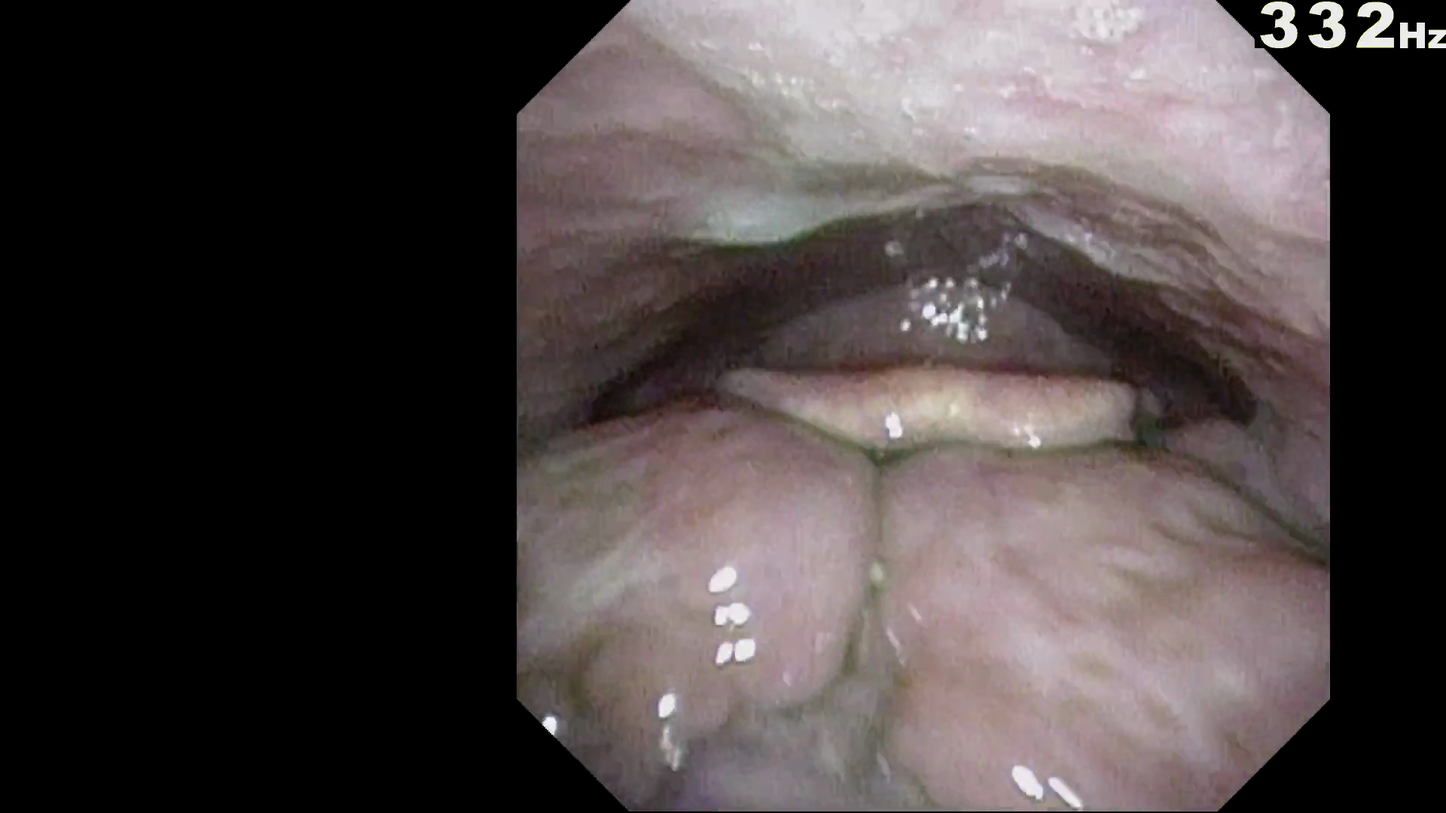epiglottis: (662, 396, 1186, 517)
trachea: (845, 414, 1005, 486)
